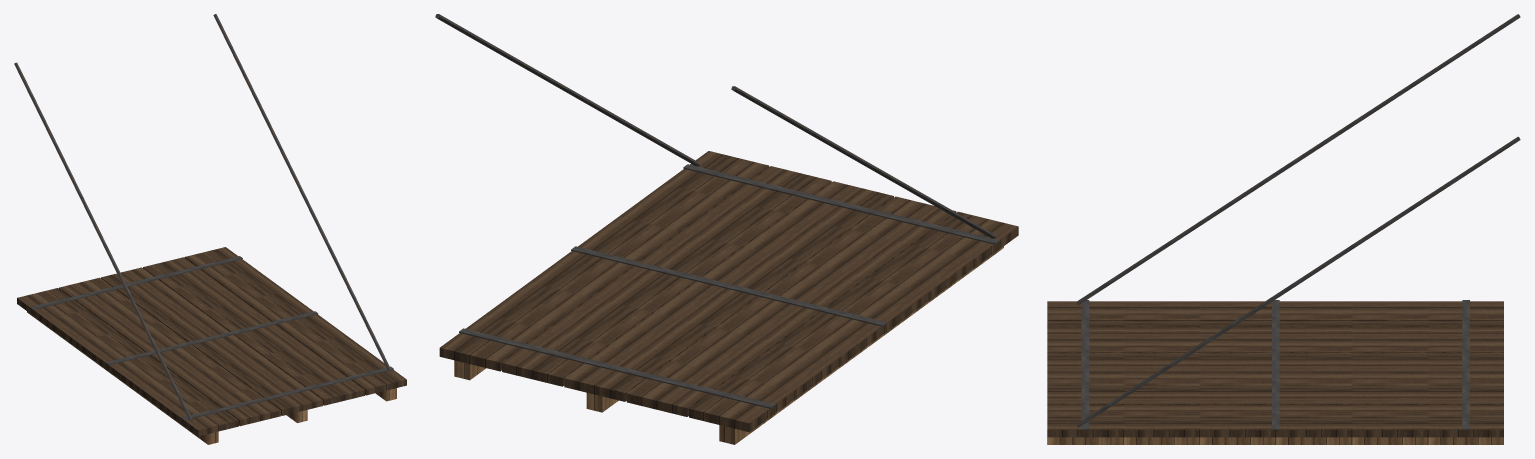
Rendered from Drawbridge_1_LOD1.gltf.
3 renders of one model, left to right at view 1: azimuth 30°, elevation 25°; view 2: azimuth 150°, elevation 25°; view 3: azimuth 270°, elevation 25°, orthographic. The views are drawn at different scales.
Visible parts, largest first — view 1: Drawbridge_1_LOD1; view 2: Drawbridge_1_LOD1; view 3: Drawbridge_1_LOD1.
Boxes of the visible parts, x1,y1,x2,y2 form: Drawbridge_1_LOD1: (14,14,406,444); Drawbridge_1_LOD1: (435,14,1018,444); Drawbridge_1_LOD1: (1047,14,1520,444).
Bounding box in the file's own units: 4 × 4.5 × 6.2.
Materials: 3 (3 with a texture image).
